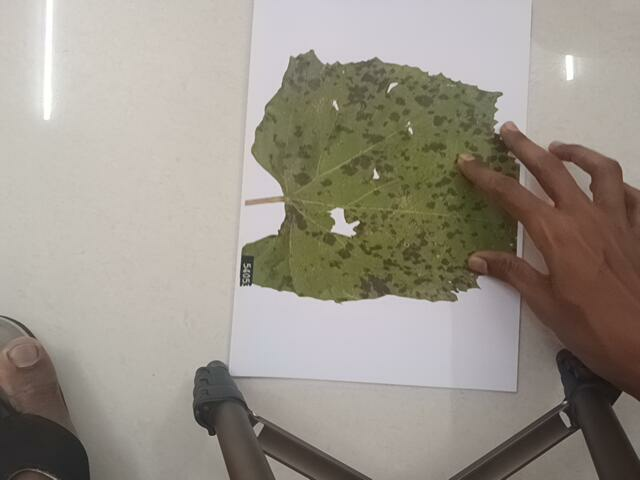Grape_Blight_Leaf: (250, 41, 469, 305)
